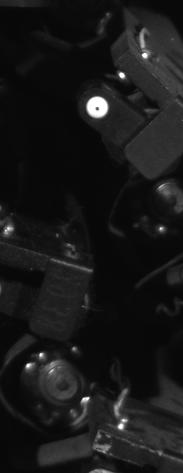fiber: (82, 92, 114, 121)
